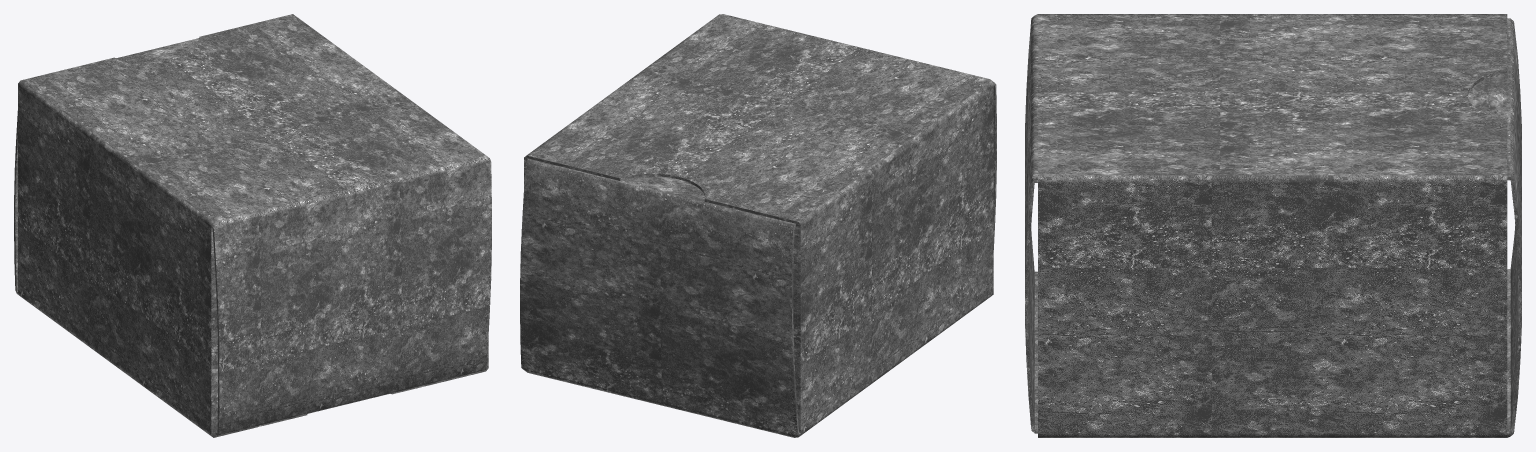
Rendered from ammo_magnum.fbx.
3 views of the same model, side by side, from view 1: azimuth 30°, elevation 25°; view 2: azimuth 150°, elevation 25°; view 3: azimuth 270°, elevation 25° (orthographic). The views are drawn at different scales.
Visible parts, largest first — view 1: Cube; view 2: Cube; view 3: Cube.
Part boxes in pixels (x1,y1,x2,y2): Cube: [14, 14, 491, 437]; Cube: [520, 14, 996, 437]; Cube: [1025, 14, 1521, 437].
Size of the model in its own units: 5.76 by 4.29 by 7.36.
2 materials, 2 textured.
